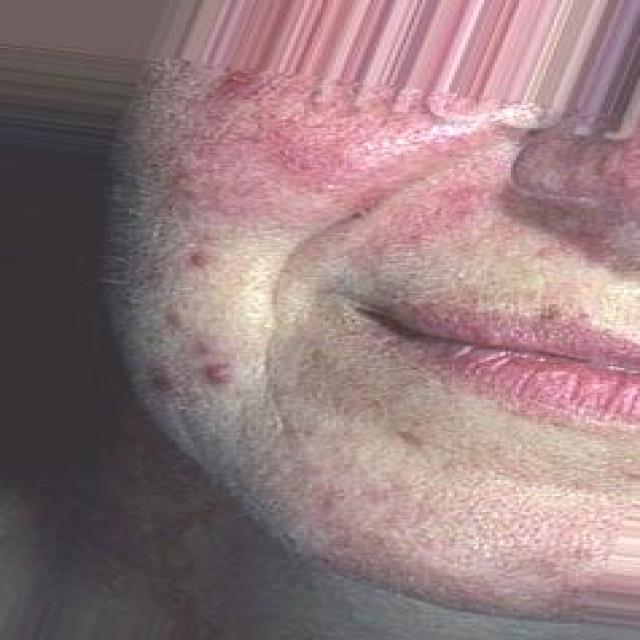Rosacea: (161, 70, 496, 246), (529, 130, 640, 192)
